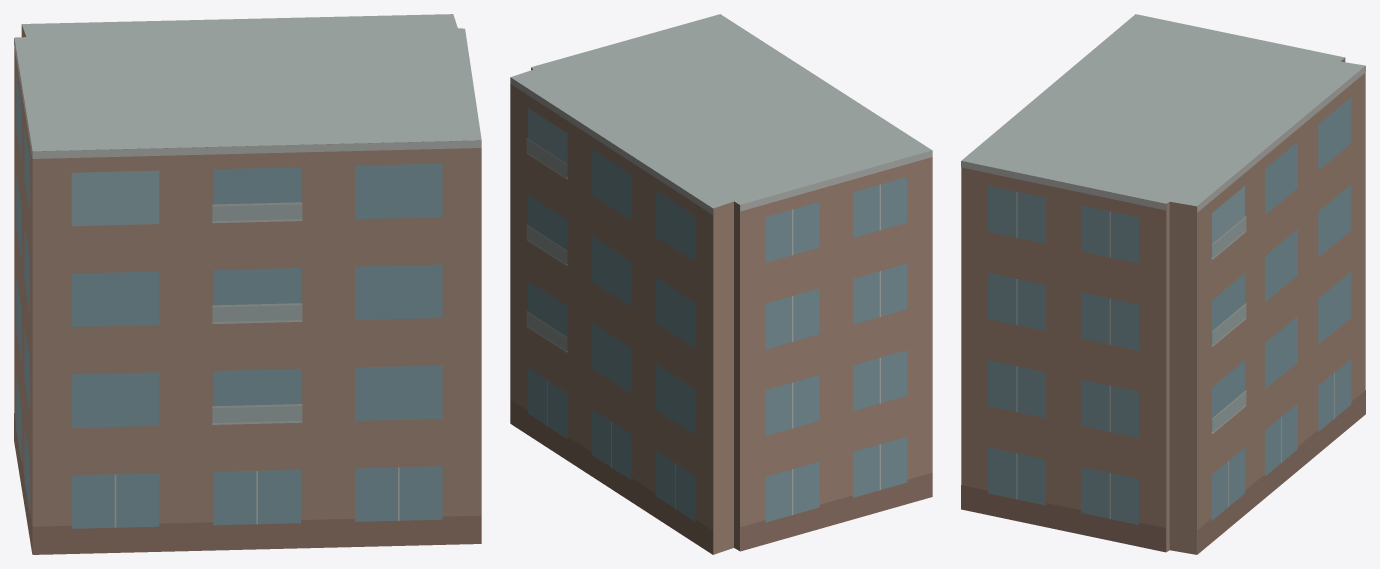
Rendered from survey-upis-32965531.glb.
3 renders of one model, left to right at view 1: azimuth 30°, elevation 25°; view 2: azimuth 150°, elevation 25°; view 3: azimuth 270°, elevation 25°, orthographic. The views are drawn at different scales.
Visible parts, largest first — view 1: survey-upis-32965531.tmp; view 2: survey-upis-32965531.tmp; view 3: survey-upis-32965531.tmp.
Part boxes in pixels (<box>): survey-upis-32965531.tmp: <box>14,14,481,554</box>; survey-upis-32965531.tmp: <box>510,14,932,554</box>; survey-upis-32965531.tmp: <box>961,14,1365,554</box>.
Bounding box in the file's own units: 15.27 × 12.9 × 13.58.
